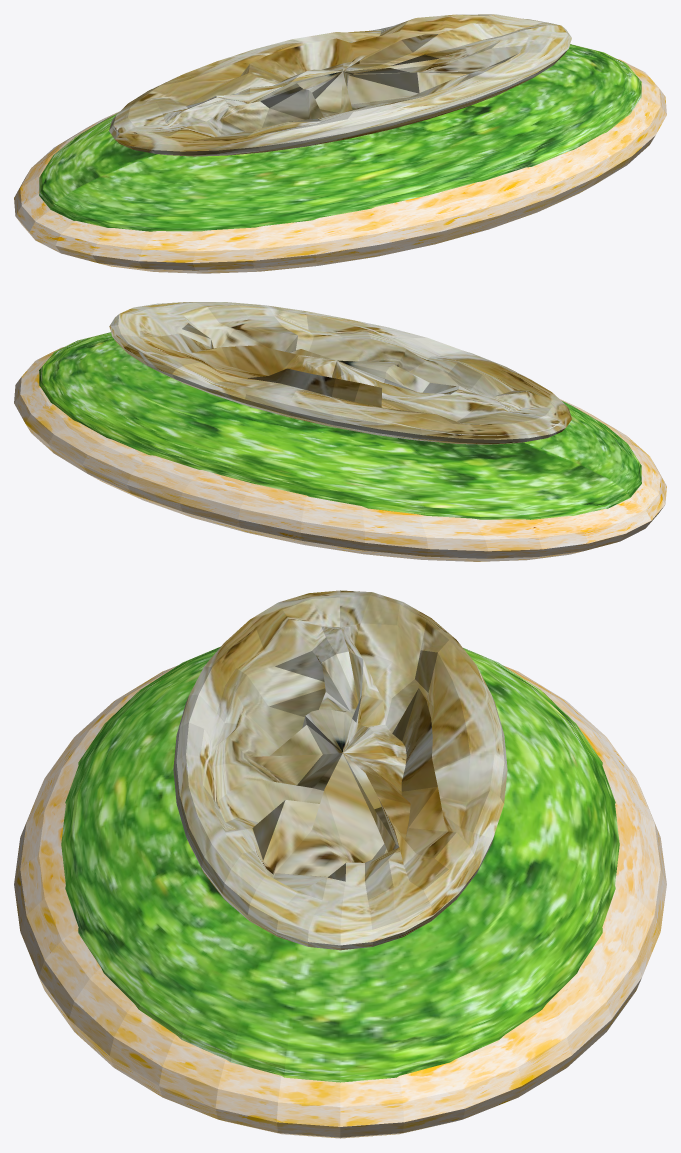
File: memela-verde-quesillo.glb
3 views of the same model, one above another, from view 1: azimuth 30°, elevation 25°; view 2: azimuth 150°, elevation 25°; view 3: azimuth 270°, elevation 25° (orthographic). The views are drawn at different scales.
Visible parts, largest first — view 1: Sphere; view 2: Sphere; view 3: Sphere.
Part boxes in pixels (x1,y1,x2,y2): Sphere: (14,14,666,273); Sphere: (14,302,666,561); Sphere: (14,590,666,1138).
Size of the model in its own units: 2 by 0.4357 by 1.14.
3 materials, 3 textured.
